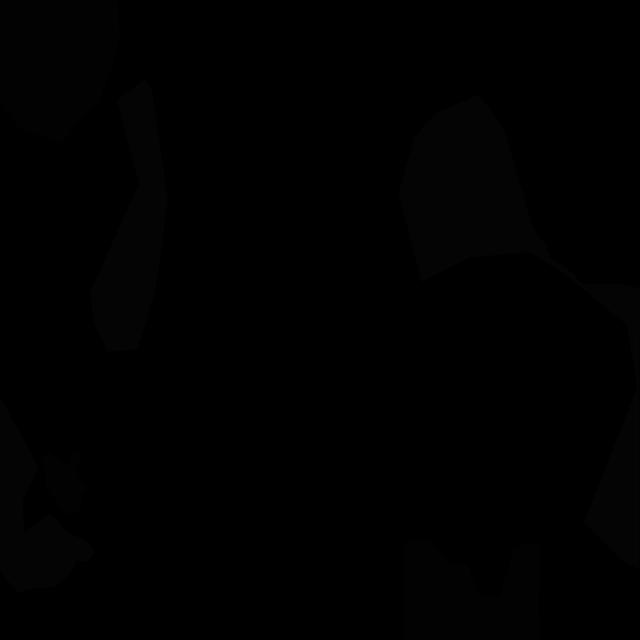cardboard: (404, 540, 540, 640), (40, 450, 90, 515)
soft_plastic: (398, 95, 640, 569), (90, 80, 168, 351), (0, 397, 96, 593)
